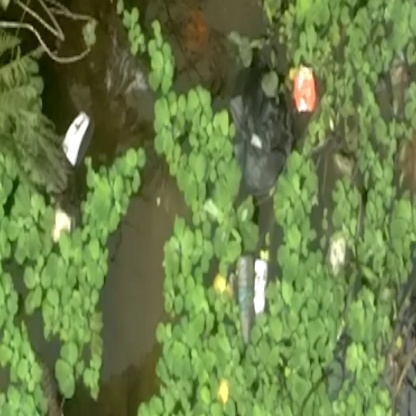bottle: (231, 254, 258, 341)
